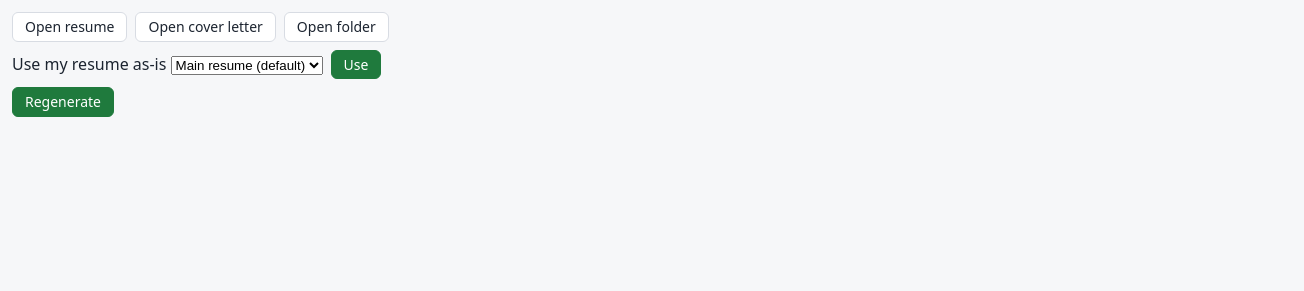
Test: DocsActions feedback and source › says the resume was updated after a regenerate
Click the button "Regenerate".
click(63, 102)  # box [12,87,114,117]
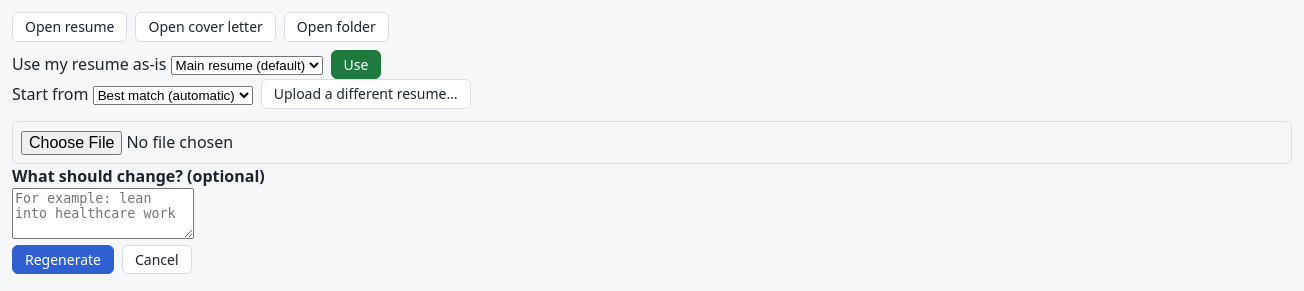
Click the button "Regenerate".
click(63, 260)  # box [12,245,114,274]
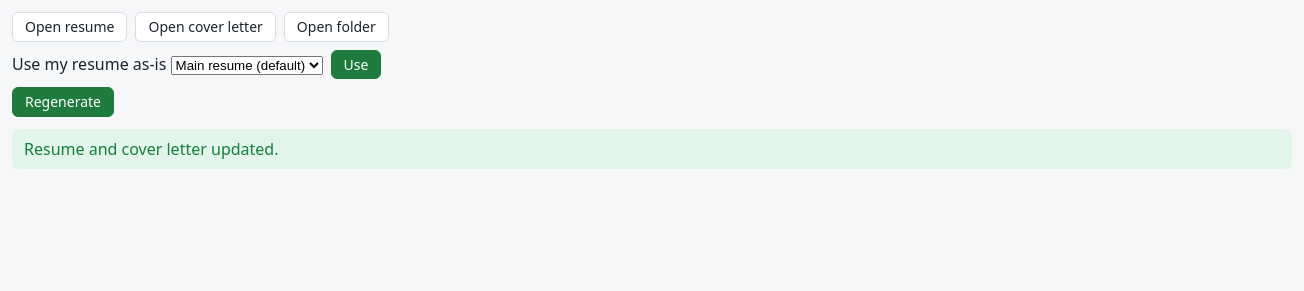
Result: the text "Resume and cover letter updated." is shown at [12,129,1292,169]
